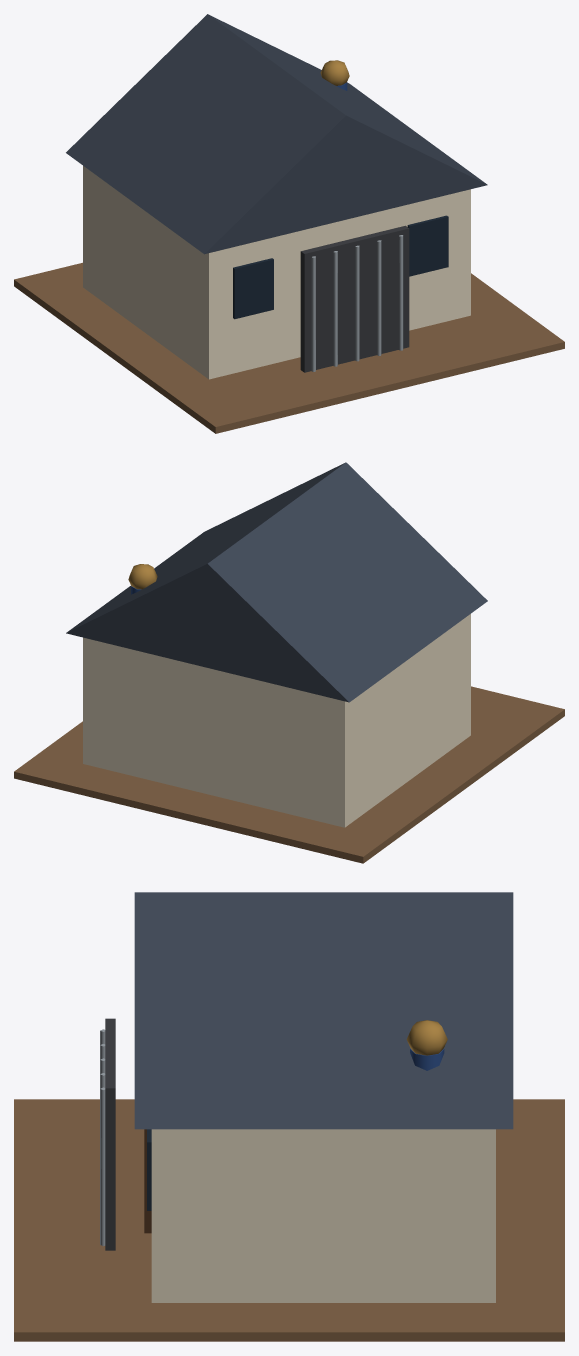
Rendered from bld_special_police_a03_lod1.glb.
3 views of the same model, one above another, from view 1: azimuth 30°, elevation 25°; view 2: azimuth 150°, elevation 25°; view 3: azimuth 270°, elevation 25° (orthographic). The views are drawn at different scales.
Parts seen in each view (by area): view 1: body; view 2: body; view 3: body.
Boxes of the visible parts, left/top/right/bottom form: body: left=14, top=14, right=564, bottom=433; body: left=14, top=462, right=564, bottom=863; body: left=14, top=892, right=564, bottom=1341.
Size of the model in its own units: 8 by 5.33 by 8.
